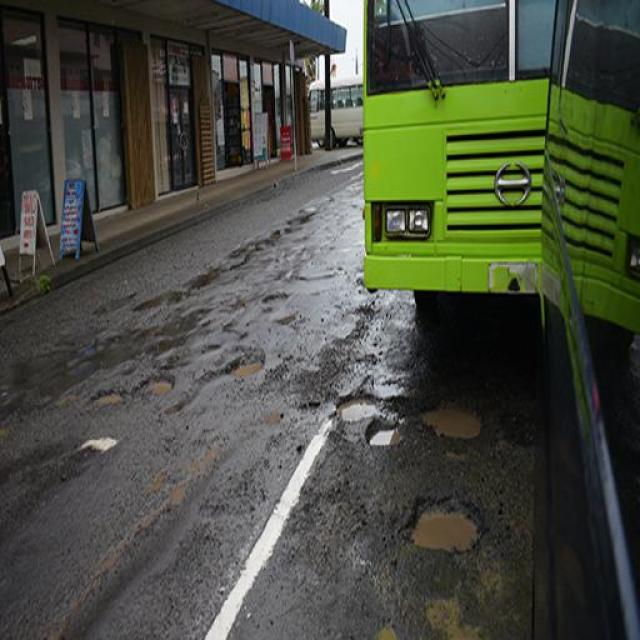puddle: (404, 498, 498, 541), (424, 403, 480, 453)
